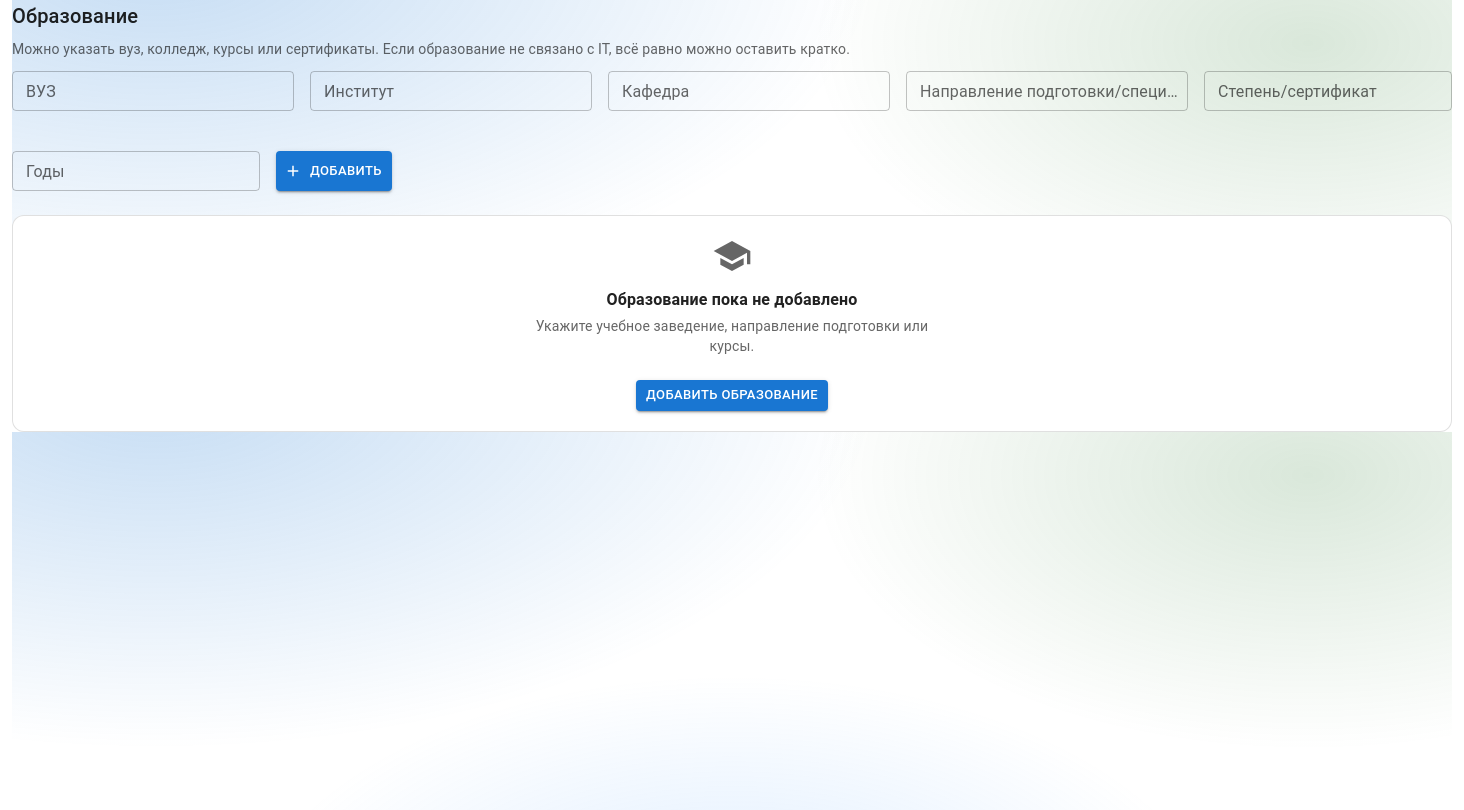
Scenario: EducationBlock form validation › error clears when user types
Click the button "Добавить" at (334, 171), box x1=276 y1=151 x2=392 y2=191
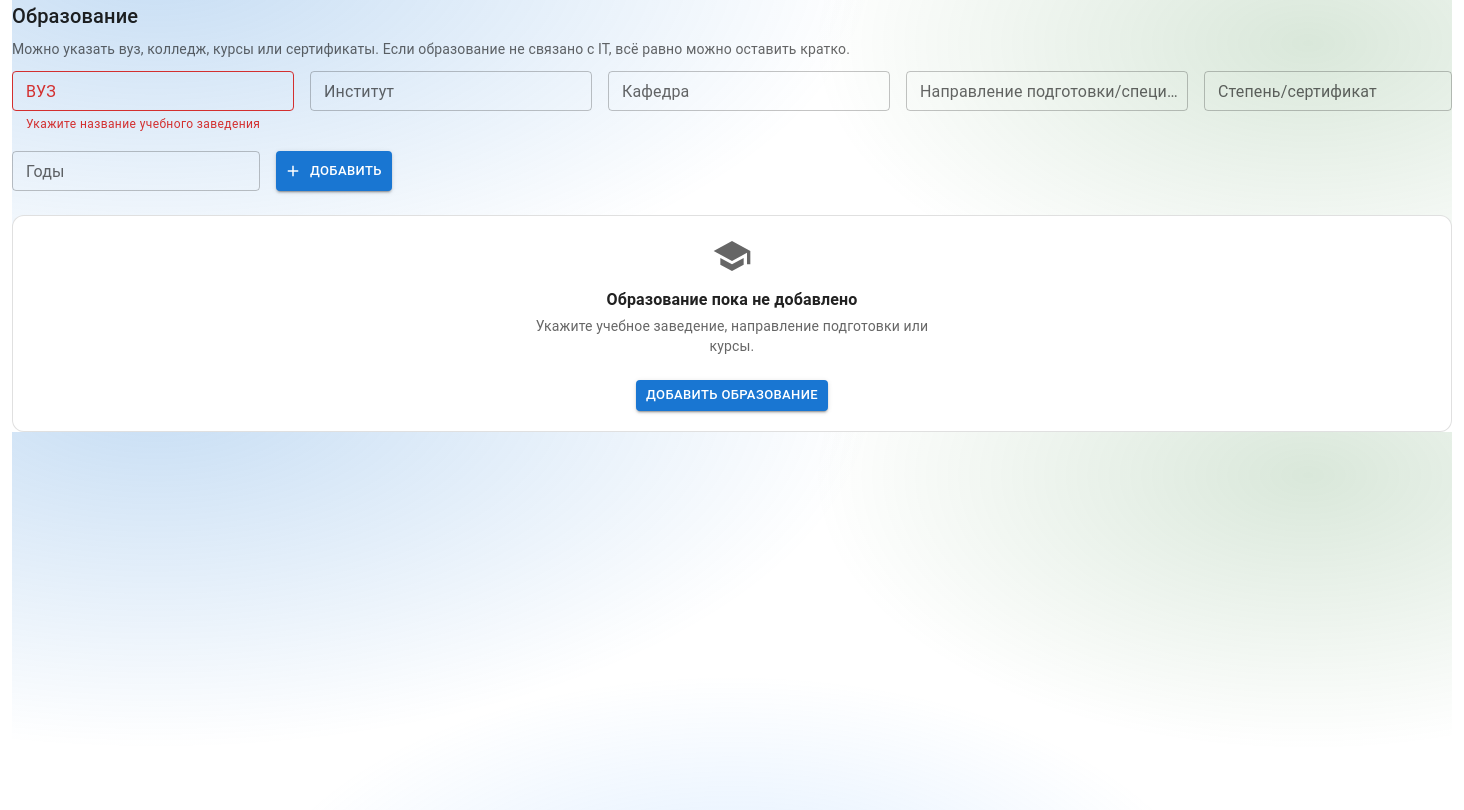
Now the text "Укажите название учебного заведения" is shown, box x1=26 y1=115 x2=280 y2=135
Type "X" into the field labelled "ВУЗ" at (153, 91), box x1=12 y1=71 x2=294 y2=111
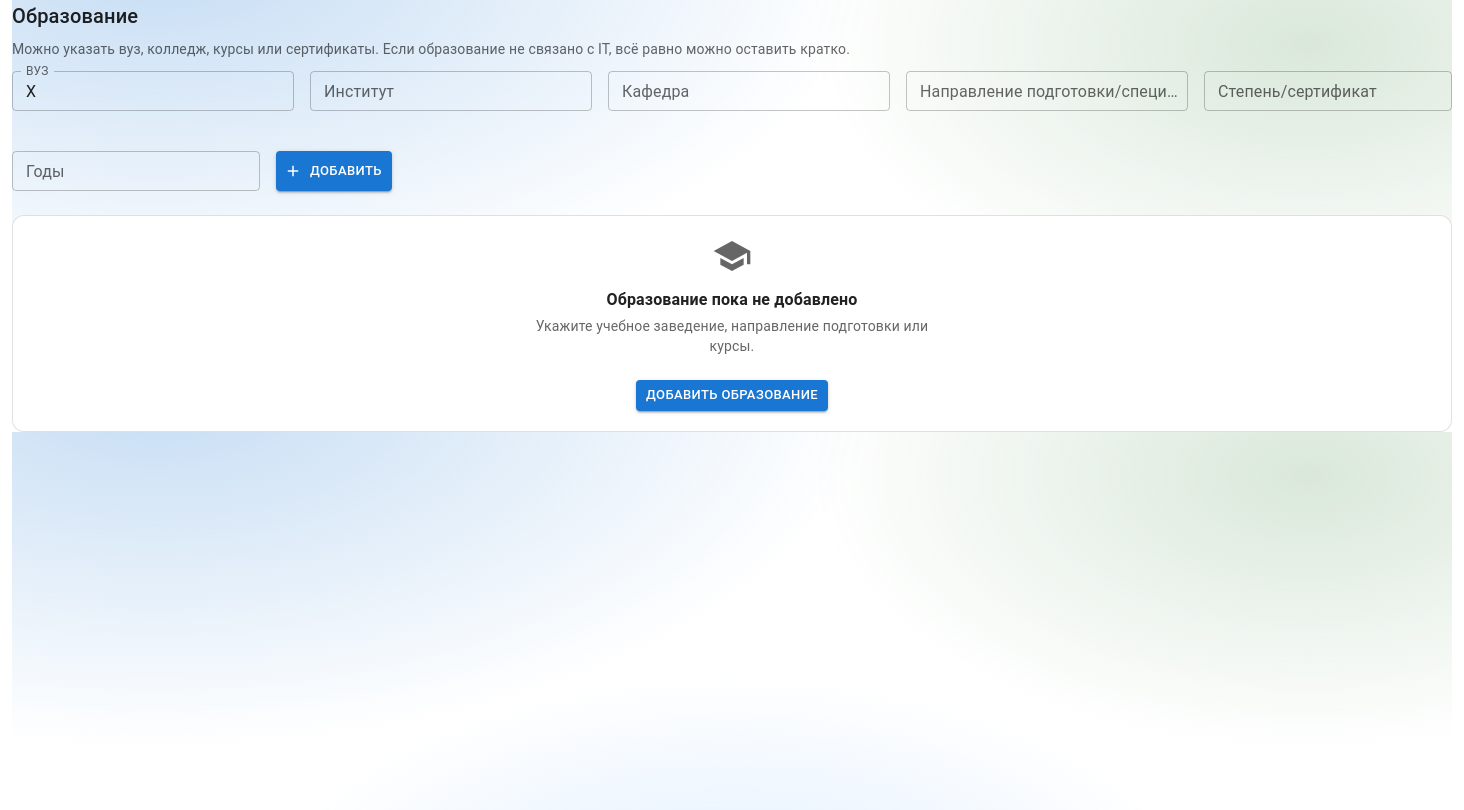
Now the text "Укажите название учебного заведения" is gone
